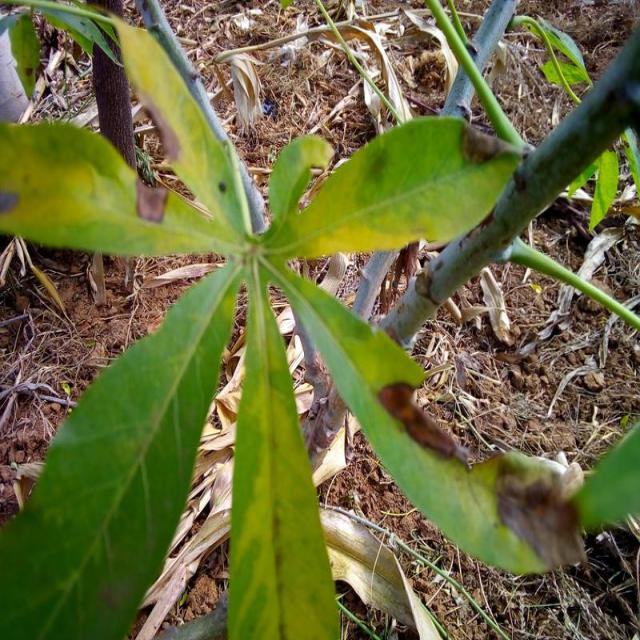cassava leaf: (2, 2, 592, 638), (2, 258, 244, 638), (267, 113, 526, 261)
